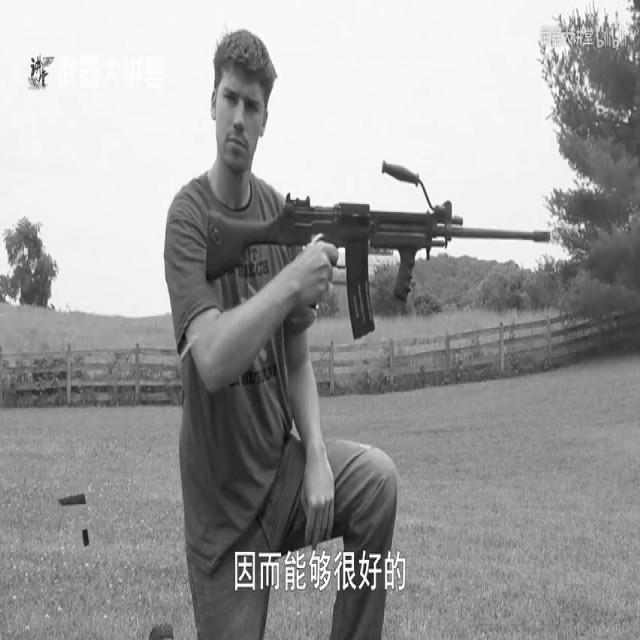Sniper: (186, 64, 563, 413)
